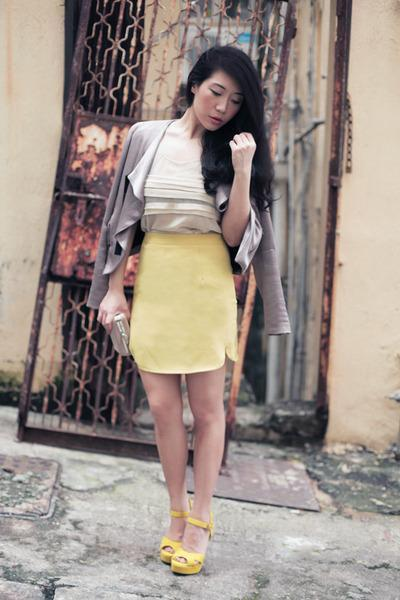jacket: (68, 120, 294, 347)
shirt: (118, 140, 228, 246)
shoe: (161, 540, 208, 576)
skirt: (130, 236, 244, 373)
